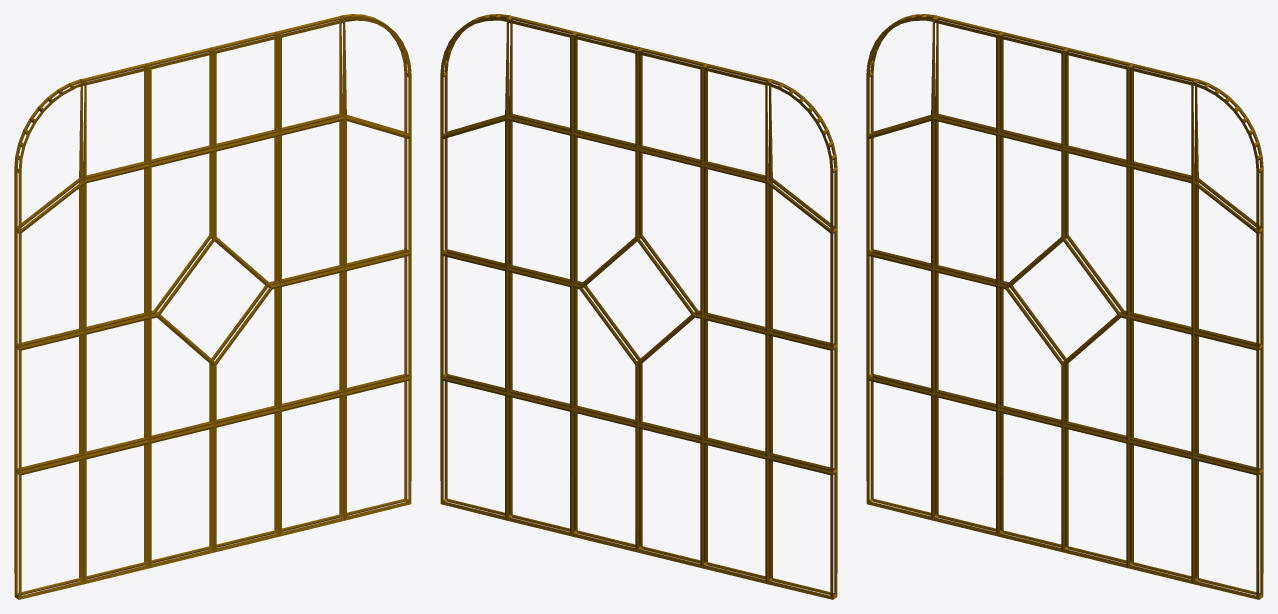
The model's file is ArchedWindow.glb.
3 renders of one model, left to right at view 1: azimuth 30°, elevation 25°; view 2: azimuth 150°, elevation 25°; view 3: azimuth 330°, elevation 25°, orthographic.
Visible parts, largest first — view 1: Cube.033; view 2: Cube.033; view 3: Cube.033.
Part boxes in pixels (x1,y1,x2,y2): Cube.033: (14, 14, 411, 599); Cube.033: (440, 14, 837, 599); Cube.033: (866, 14, 1263, 599).
Bounding box in the file's own units: 6.81 × 8.31 × 0.1354.
